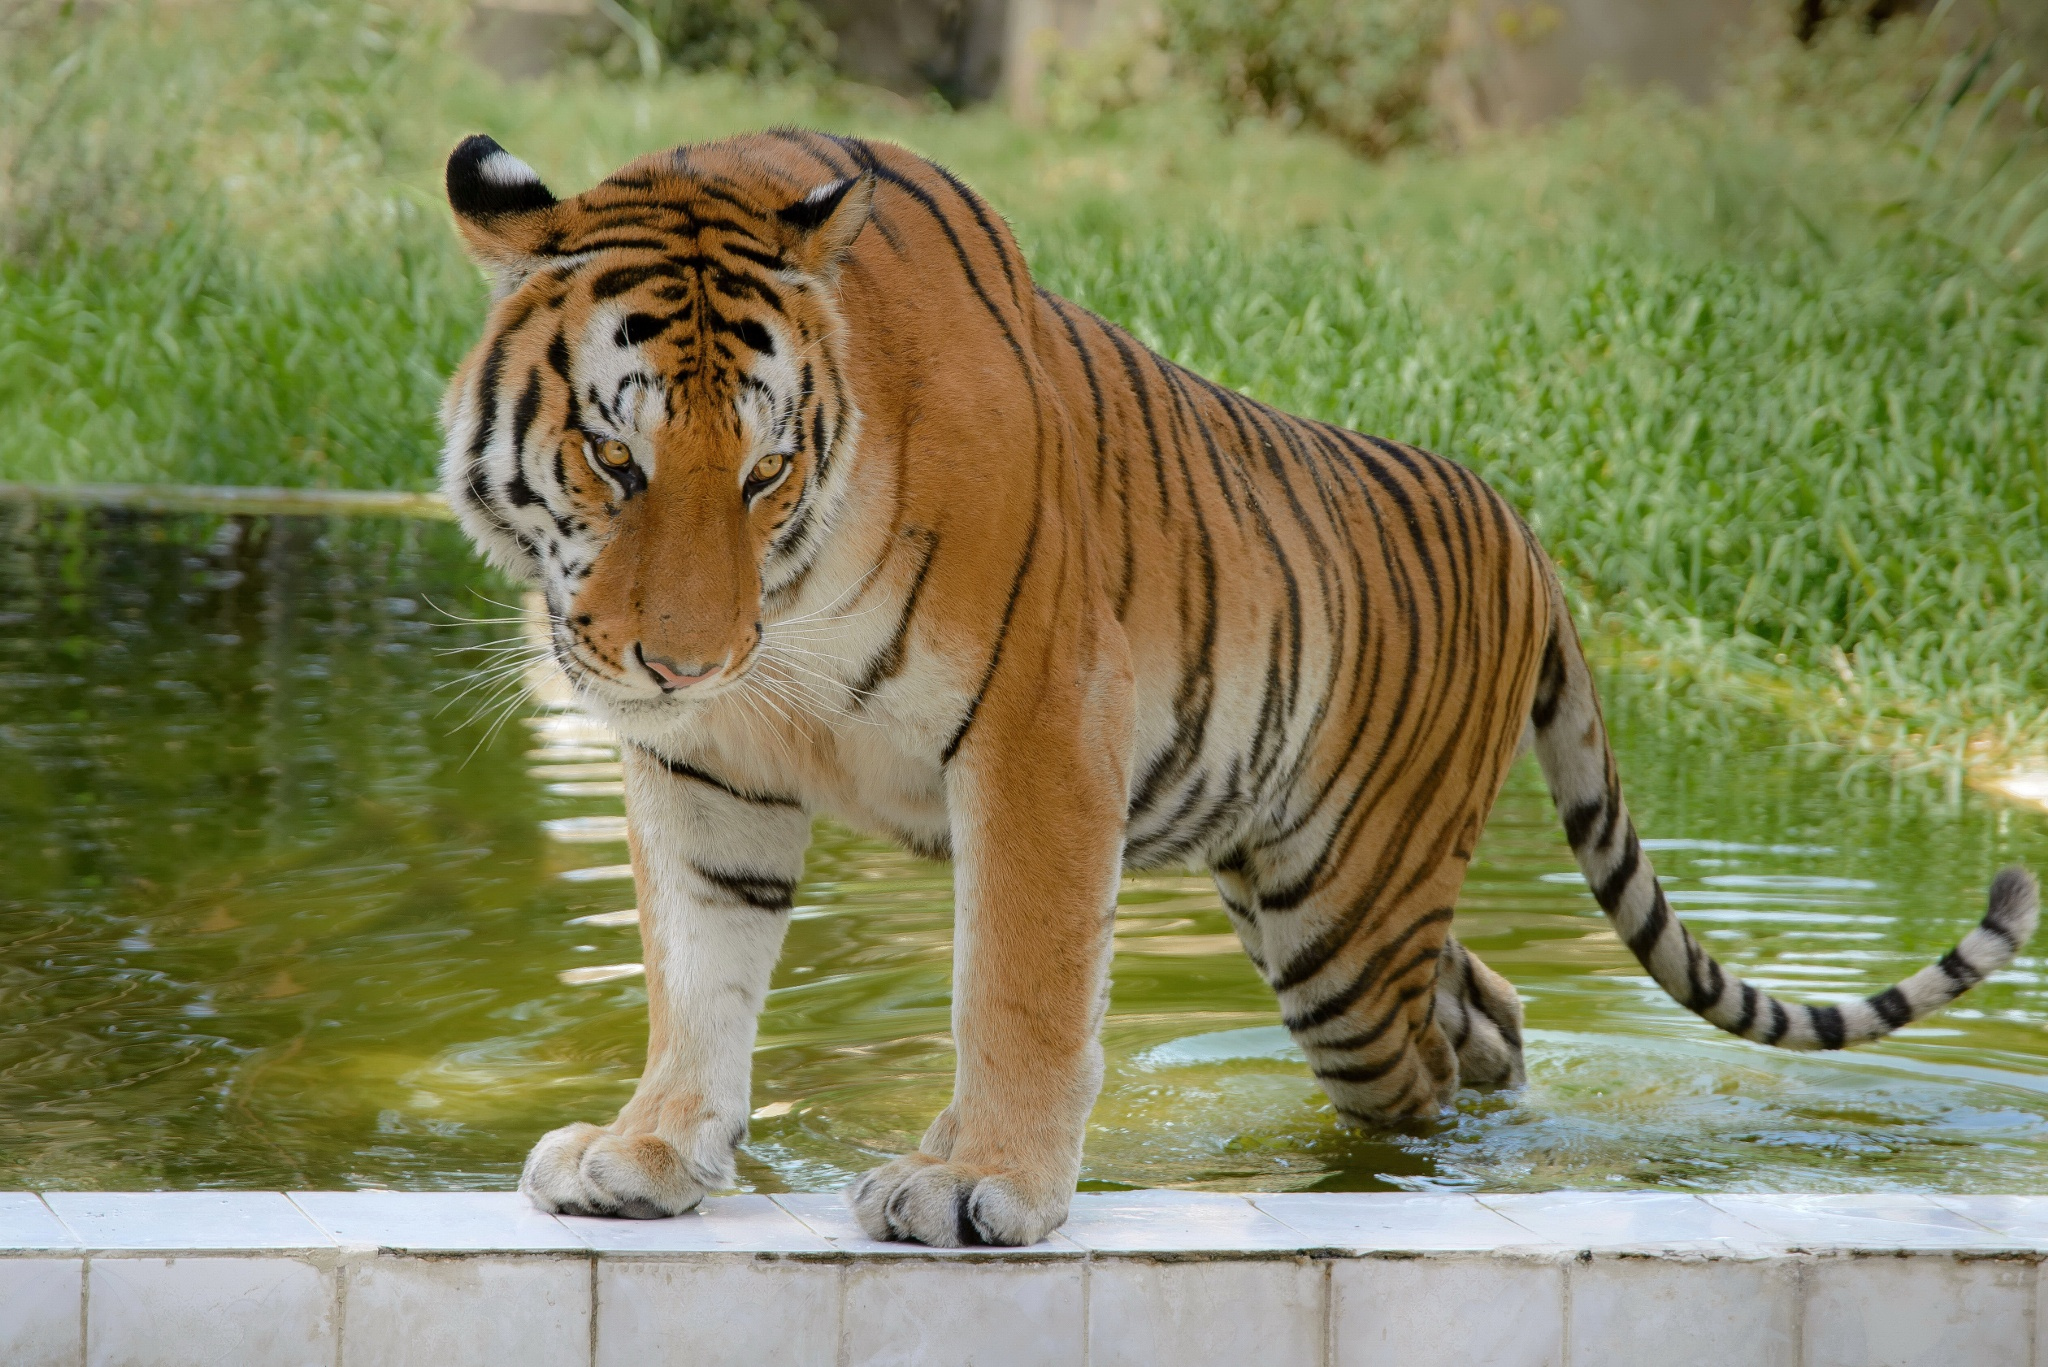tiger: (412, 121, 1684, 1237)
